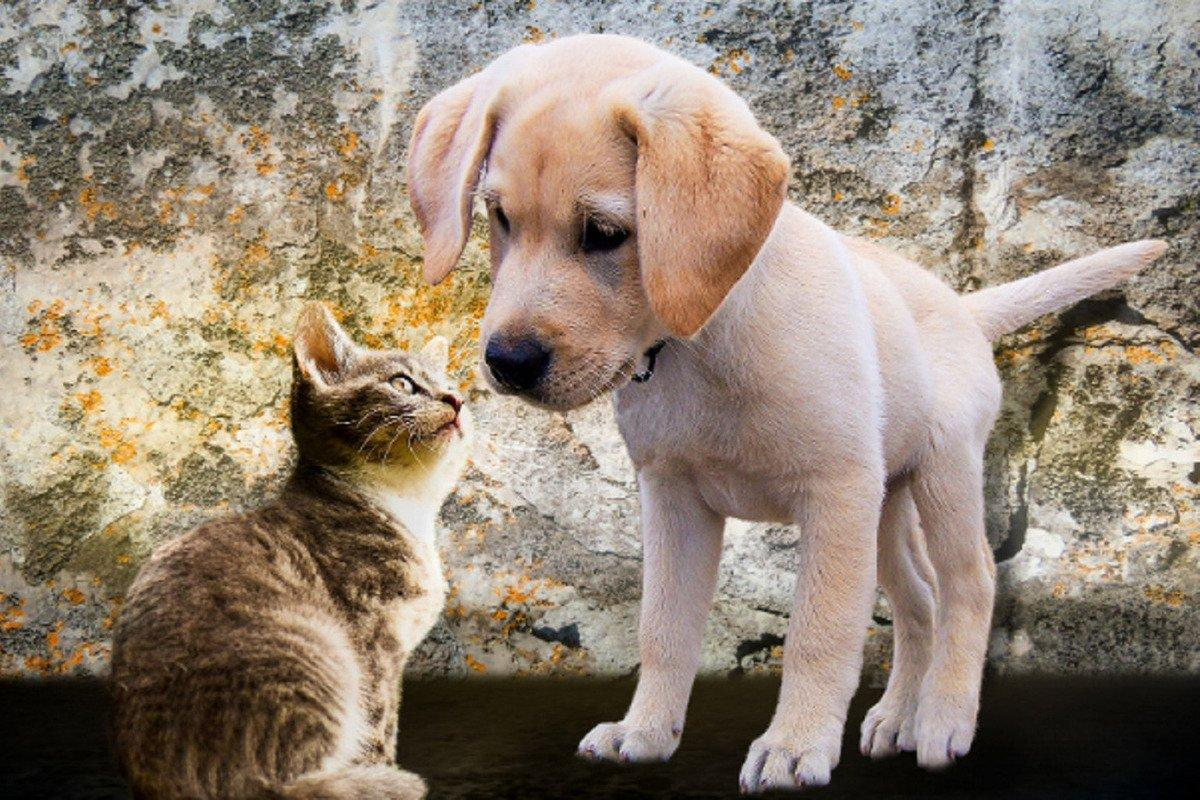animals: (402, 21, 1175, 800), (108, 295, 486, 800)
